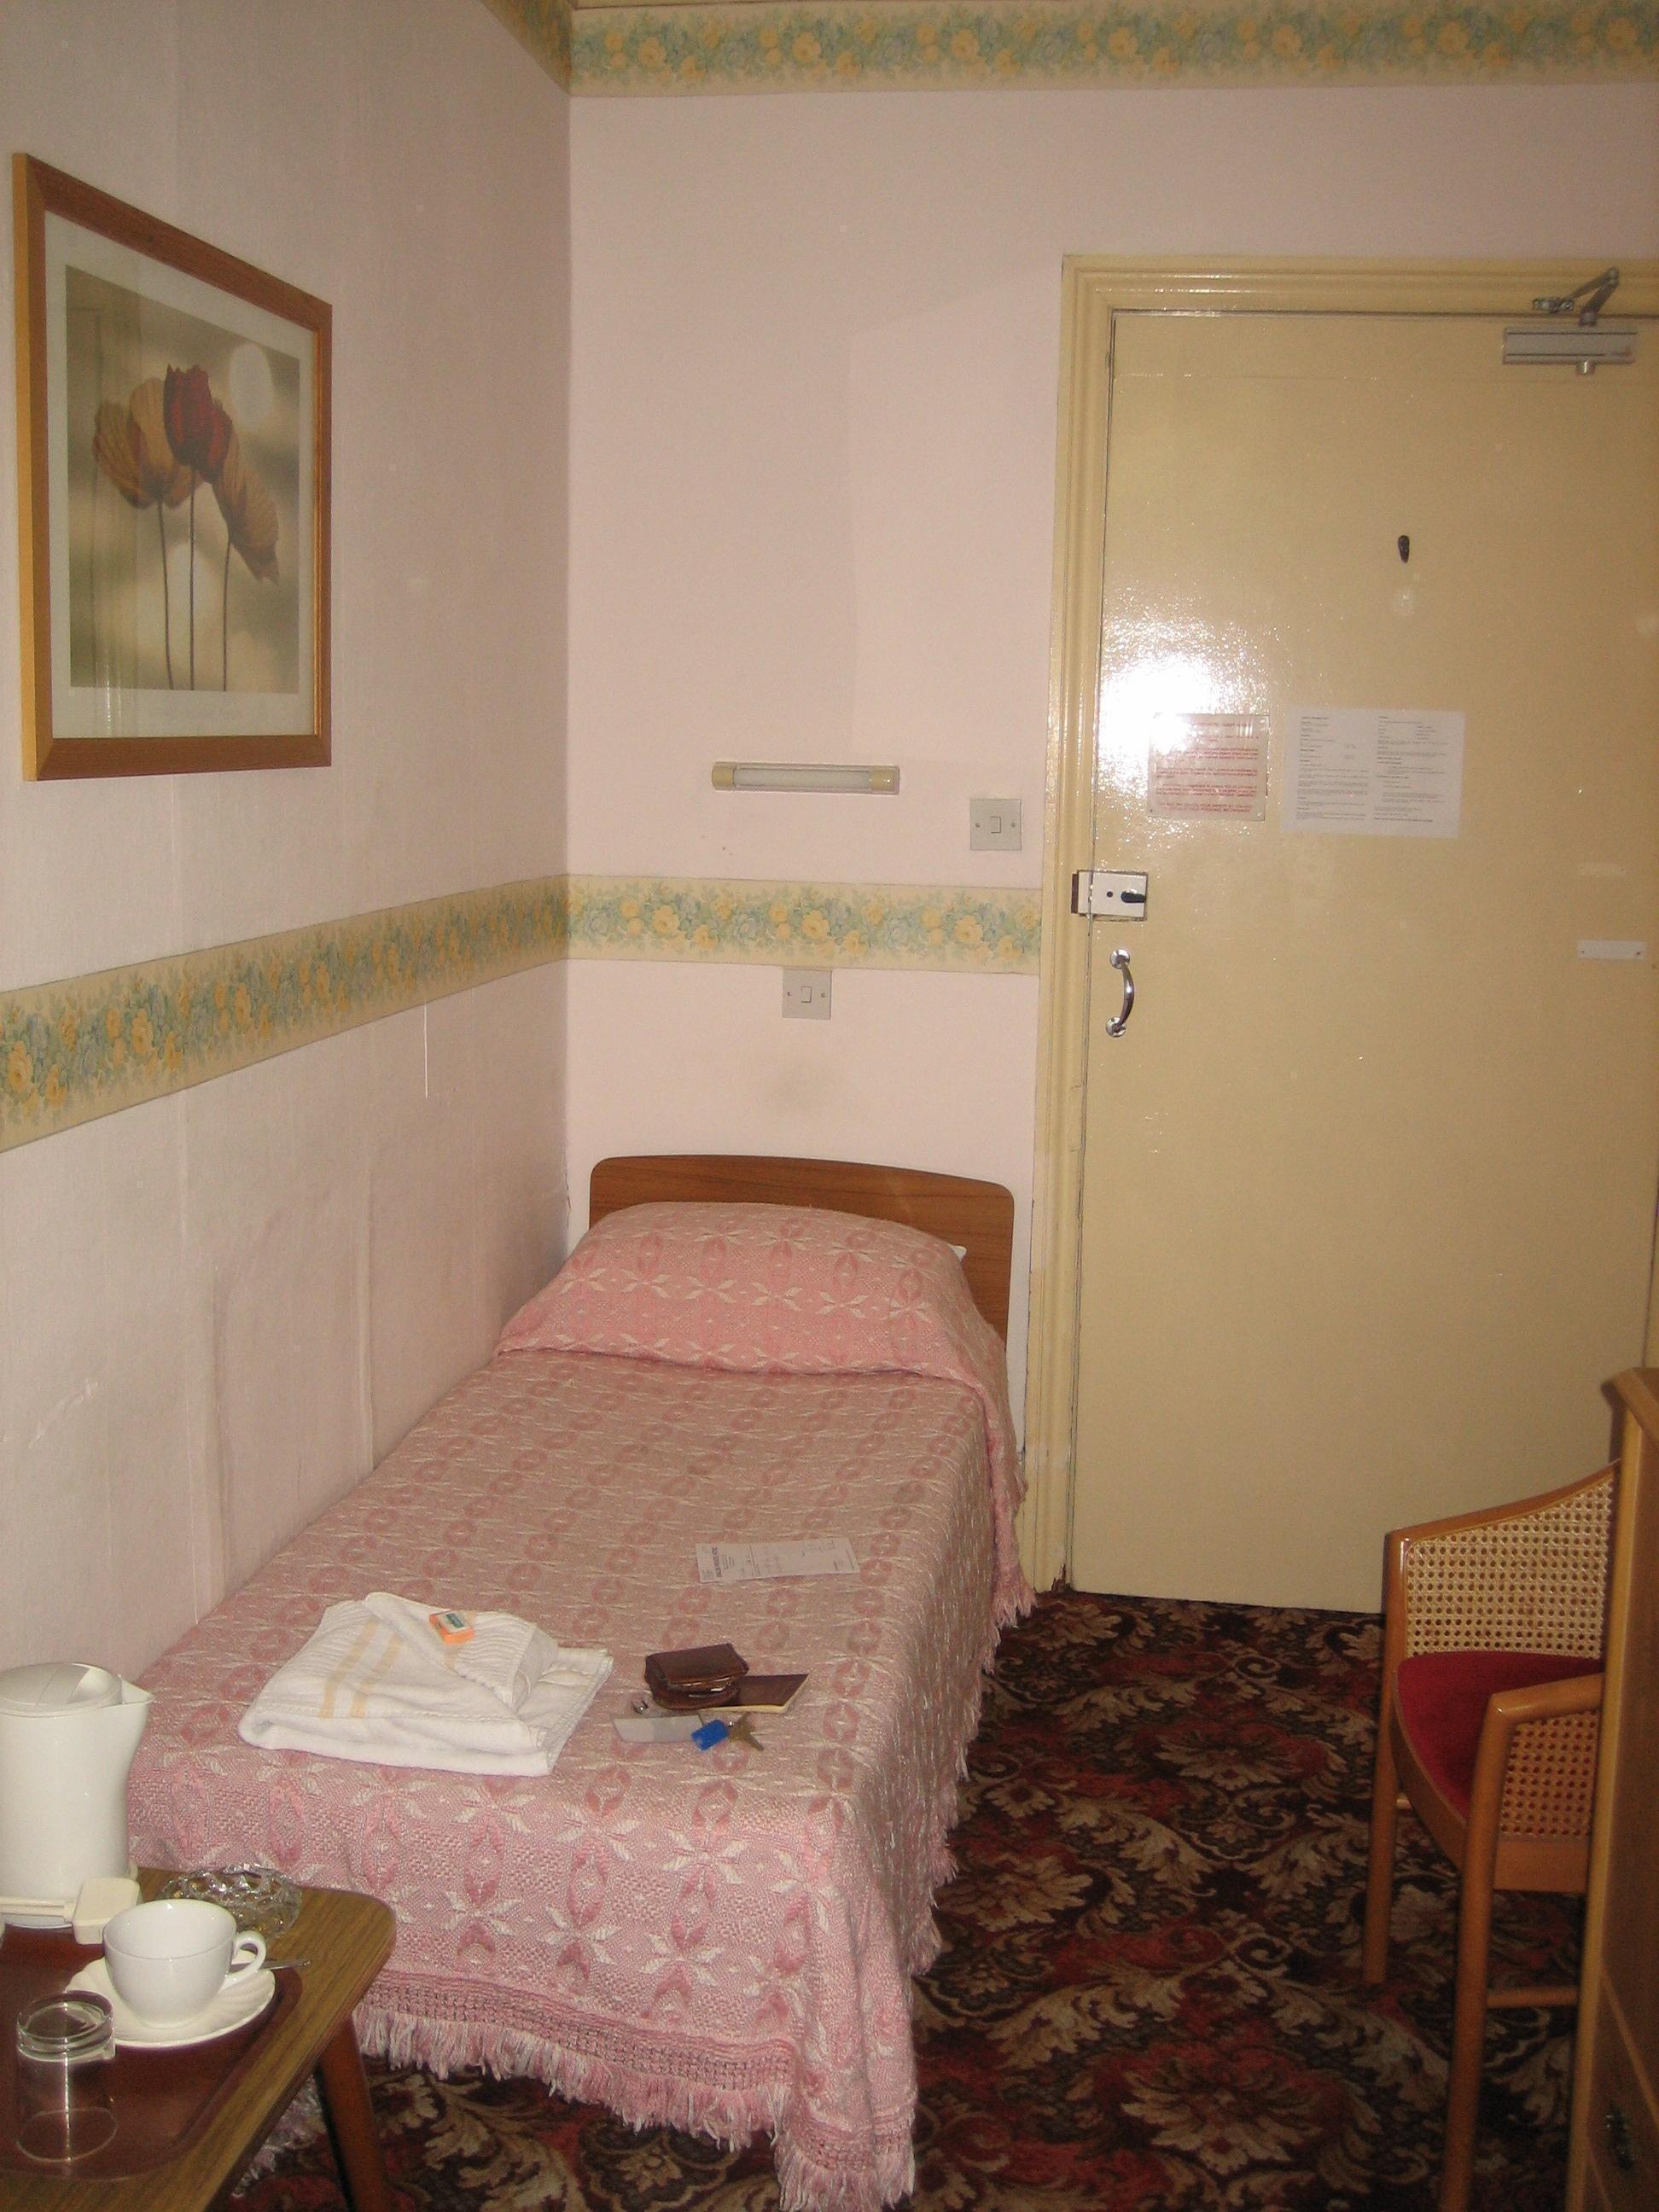Cama: (127, 1137, 1023, 2191)
Puerta: (1094, 300, 1633, 1618)
